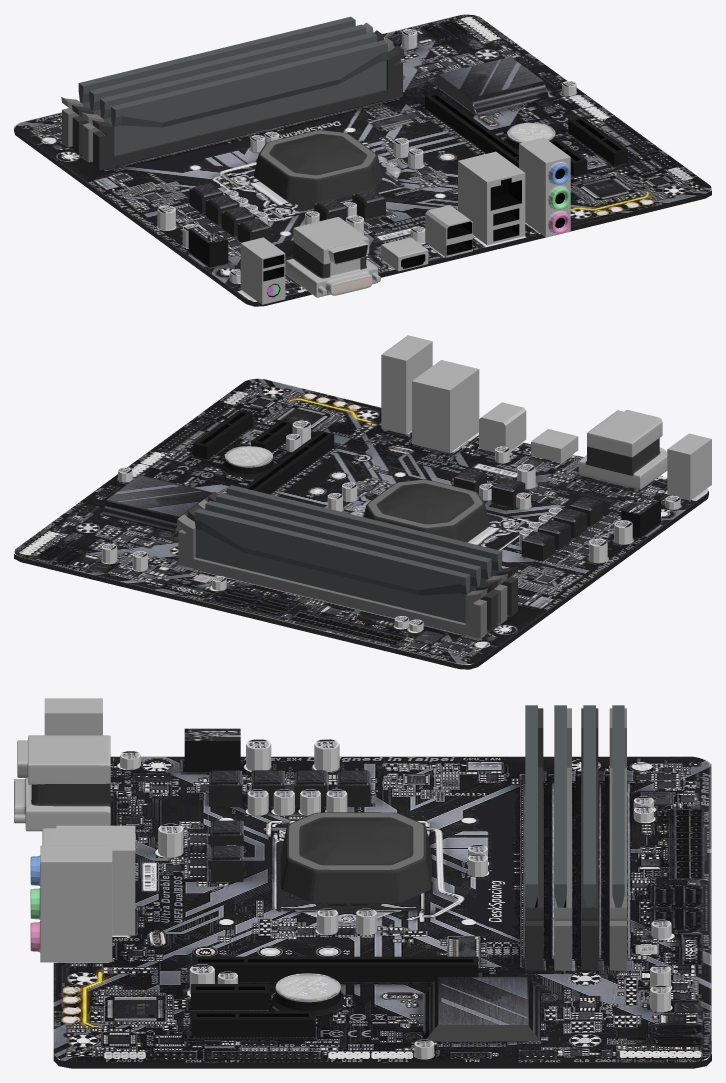
File: motherboard.glb
The picture shows the model from 3 angles, top to bottom: view 1: azimuth 30°, elevation 25°; view 2: azimuth 150°, elevation 25°; view 3: azimuth 270°, elevation 25°; orthographic projection. The views are drawn at different scales.
Parts seen in each view (by area): view 1: Plane; view 2: Plane; view 3: Plane.
Boxes of the visible parts, x1,y1,x2,y2 form: Plane: (14, 14, 711, 306); Plane: (14, 335, 711, 669); Plane: (14, 698, 711, 1068).
Size of the model in its own units: 10.37 by 1.69 by 10.01.
Materials: 19 (1 with a texture image).
